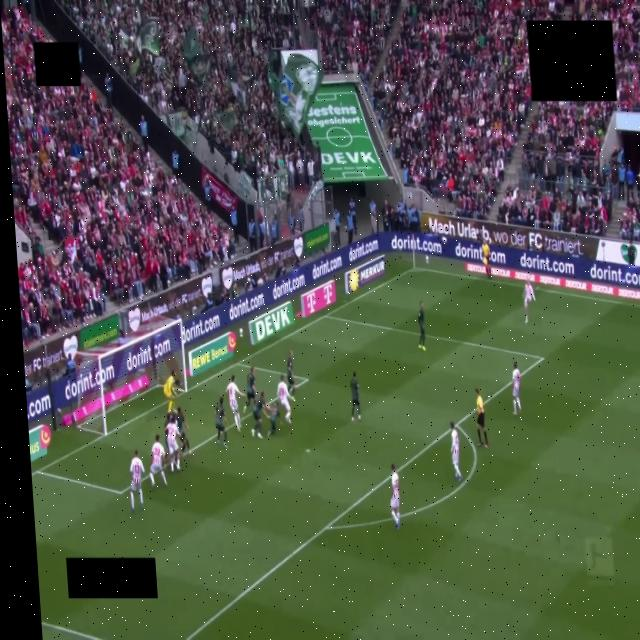player: (226, 376, 243, 431), (130, 450, 144, 512), (150, 435, 166, 488), (277, 376, 295, 423), (252, 392, 270, 439), (450, 422, 462, 481), (167, 414, 179, 471), (176, 407, 190, 455), (390, 464, 400, 529), (215, 398, 227, 448), (243, 367, 256, 413), (350, 372, 361, 421), (512, 362, 521, 415), (164, 370, 175, 413), (524, 282, 535, 323), (267, 403, 280, 436), (287, 351, 295, 396), (418, 302, 425, 351), (164, 413, 172, 442)
referee: (475, 388, 488, 447)
